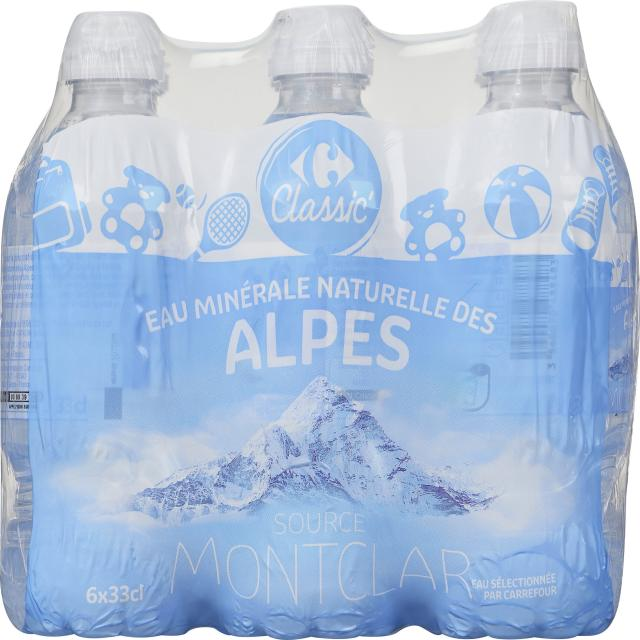plastic_bottle: (2, 3, 637, 638)
